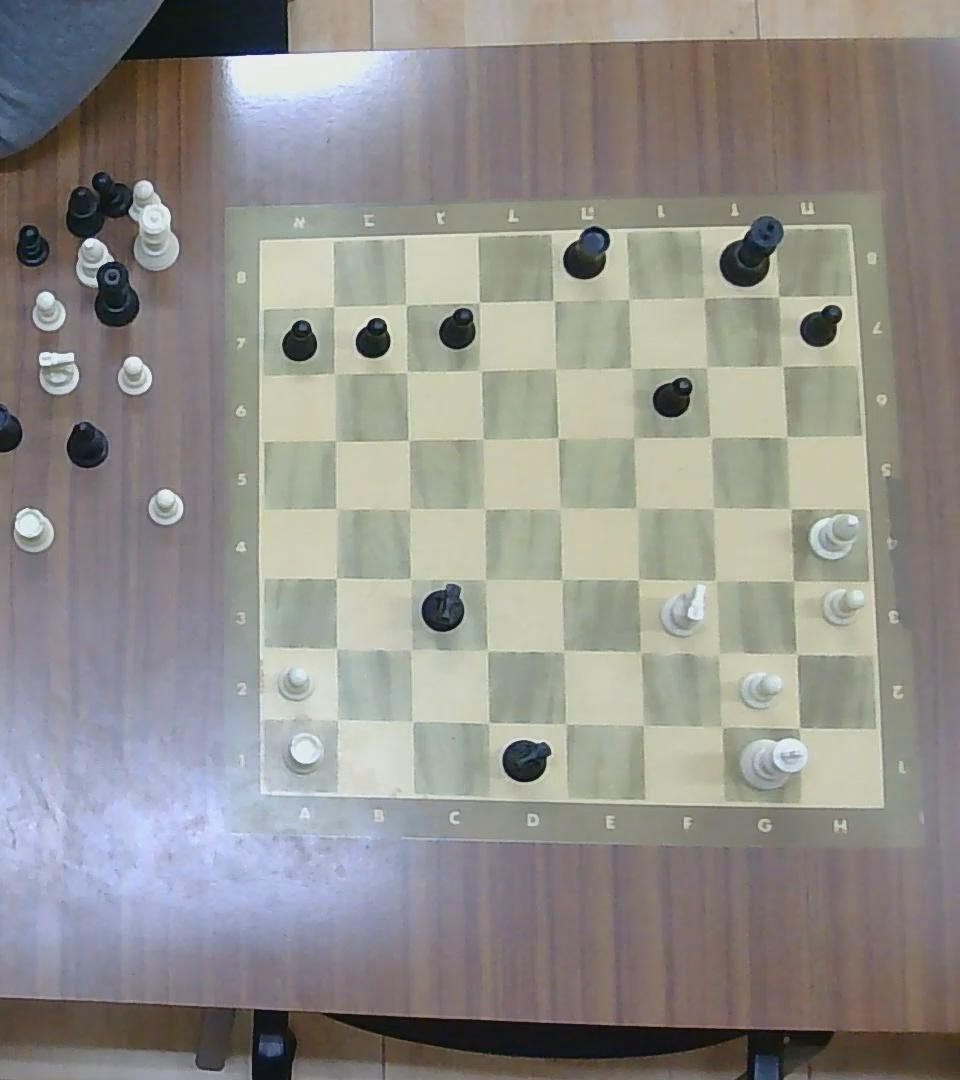xcorner: (703, 708, 737, 742), (781, 710, 815, 743), (701, 636, 735, 669), (776, 565, 810, 595), (625, 635, 656, 667), (626, 707, 657, 739), (320, 703, 352, 734), (780, 637, 812, 668), (472, 706, 503, 737), (320, 632, 351, 663), (622, 562, 652, 594), (548, 707, 580, 737), (396, 705, 427, 735), (699, 565, 730, 595), (548, 636, 578, 666), (548, 563, 577, 594), (472, 634, 501, 664), (698, 493, 728, 522), (621, 493, 651, 522), (776, 493, 806, 522), (545, 493, 574, 522), (395, 635, 424, 664), (321, 562, 350, 591), (471, 564, 500, 593), (619, 422, 648, 451), (471, 493, 499, 522), (545, 422, 573, 451), (467, 422, 495, 451), (323, 493, 351, 522), (396, 564, 424, 592), (617, 352, 645, 380), (396, 493, 423, 522), (321, 425, 350, 452), (320, 291, 348, 318), (615, 285, 643, 312), (395, 424, 421, 453), (542, 354, 569, 381), (693, 352, 720, 379), (772, 422, 800, 448), (467, 354, 493, 381), (692, 285, 719, 311), (321, 360, 349, 385), (769, 353, 797, 378), (393, 356, 419, 382), (697, 422, 723, 448), (393, 291, 419, 316), (540, 286, 566, 311), (466, 289, 491, 314), (767, 283, 791, 307)
